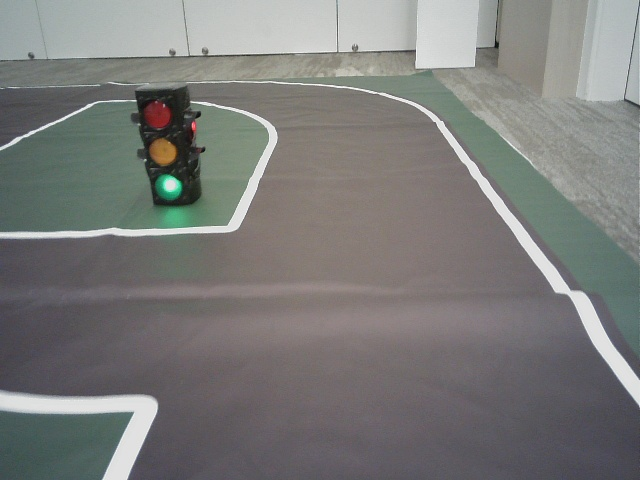green: (139, 91, 185, 202)
